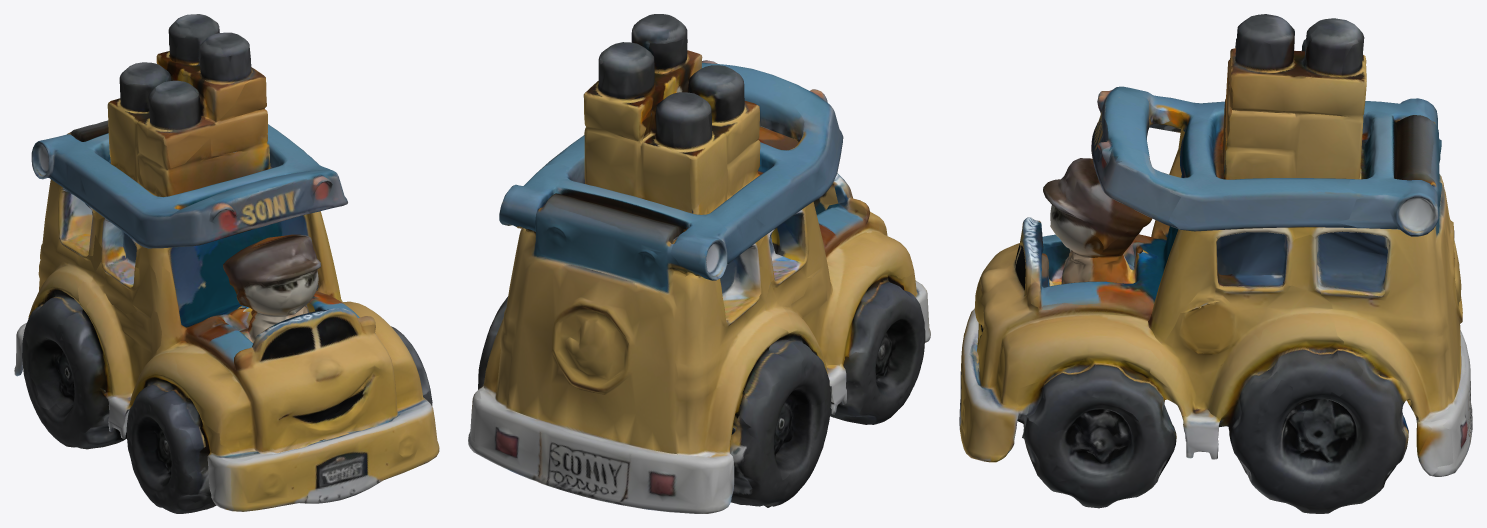
Rendered from mvadapter.glb.
3 renders of one model, left to right at view 1: azimuth 30°, elevation 25°; view 2: azimuth 150°, elevation 25°; view 3: azimuth 270°, elevation 25°, orthographic. The views are drawn at different scales.
Parts seen in each view (by area): view 1: mvadapter_node_texture_mesh_57326e7131af4cbb; view 2: mvadapter_node_texture_mesh_57326e7131af4cbb; view 3: mvadapter_node_texture_mesh_57326e7131af4cbb.
Part boxes in pixels (x1,y1,x2,y2): mvadapter_node_texture_mesh_57326e7131af4cbb: (14, 14, 439, 513); mvadapter_node_texture_mesh_57326e7131af4cbb: (468, 14, 930, 513); mvadapter_node_texture_mesh_57326e7131af4cbb: (959, 14, 1472, 513).
Bounding box in the file's own units: 0.2587 × 0.366 × 0.3813.
Materials: 1 (1 with a texture image).
